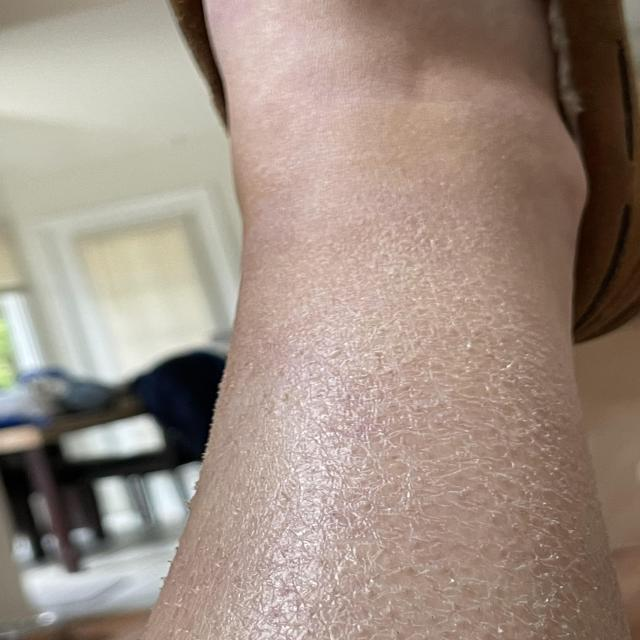Dry-Skin: (248, 148, 559, 640)
